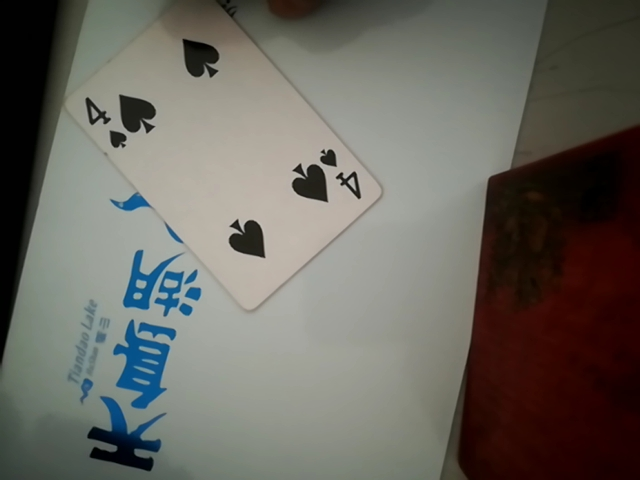ht 4: (56, 2, 377, 304)
